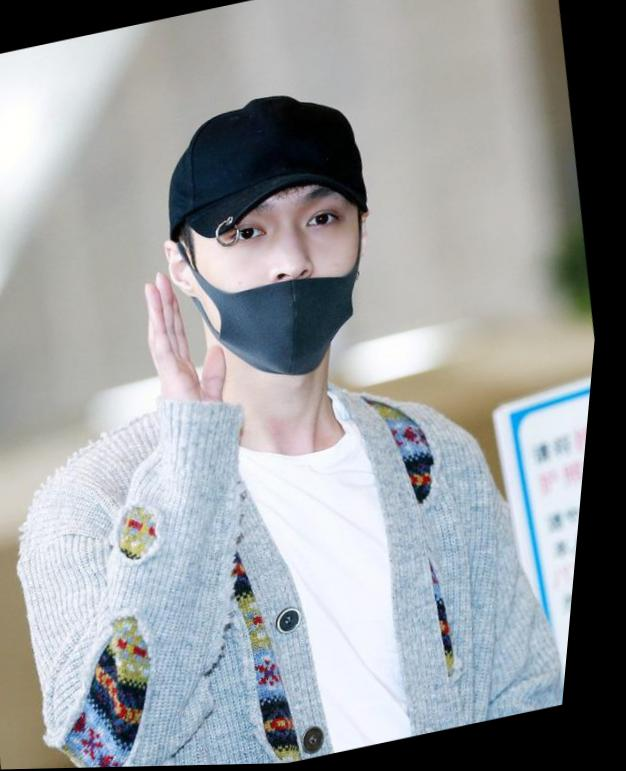WRONG: (177, 139, 398, 403)
